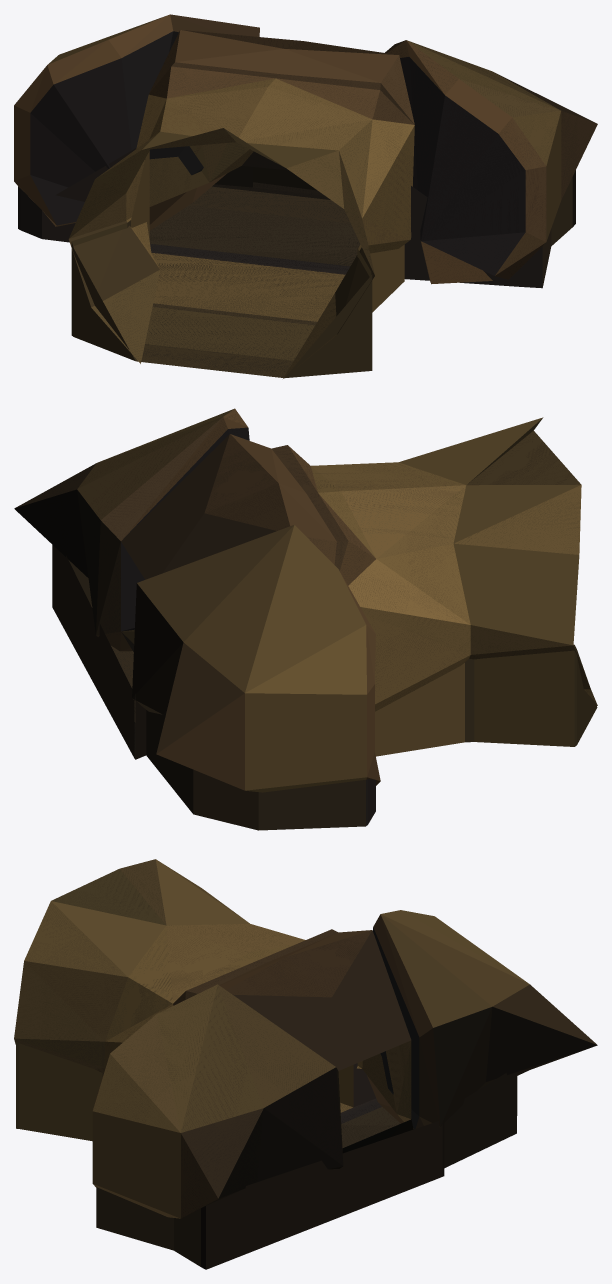
Rendered from splitbark-robe-top.obj.
3 renders of one model, top to bottom at view 1: azimuth 30°, elevation 25°; view 2: azimuth 150°, elevation 25°; view 3: azimuth 270°, elevation 25°, orthographic. The views are drawn at different scales.
Visible parts, largest first — view 1: Item Splitbark body 2026-09-24_18-04-49; view 2: Item Splitbark body 2026-09-24_18-04-49; view 3: Item Splitbark body 2026-09-24_18-04-49.
Part boxes in pixels (x1=…): Item Splitbark body 2026-09-24_18-04-49: x1=14, y1=14, x2=597, y2=378; Item Splitbark body 2026-09-24_18-04-49: x1=14, y1=408, x2=597, y2=830; Item Splitbark body 2026-09-24_18-04-49: x1=14, y1=859, x2=597, y2=1269.
Size of the model in its own units: 79.2 by 33 by 80.4.
